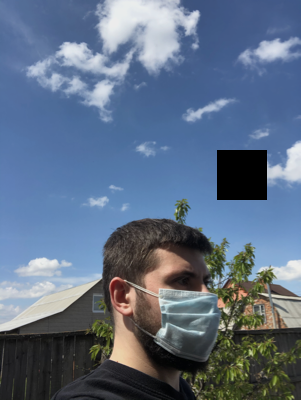with_mask: (152, 262, 220, 367)
